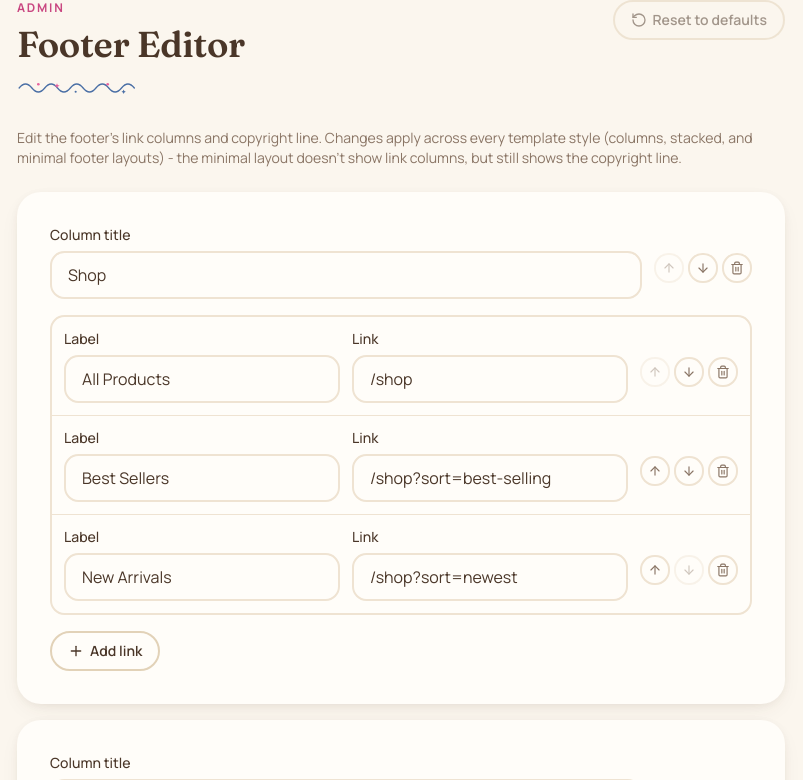
Test case: FooterEditor › blocks saving with an empty column title
Clear the 1st field labelled "Column title" at coordinates (346, 275), box x1=50 y1=251 x2=642 y2=299
(page scrolled)
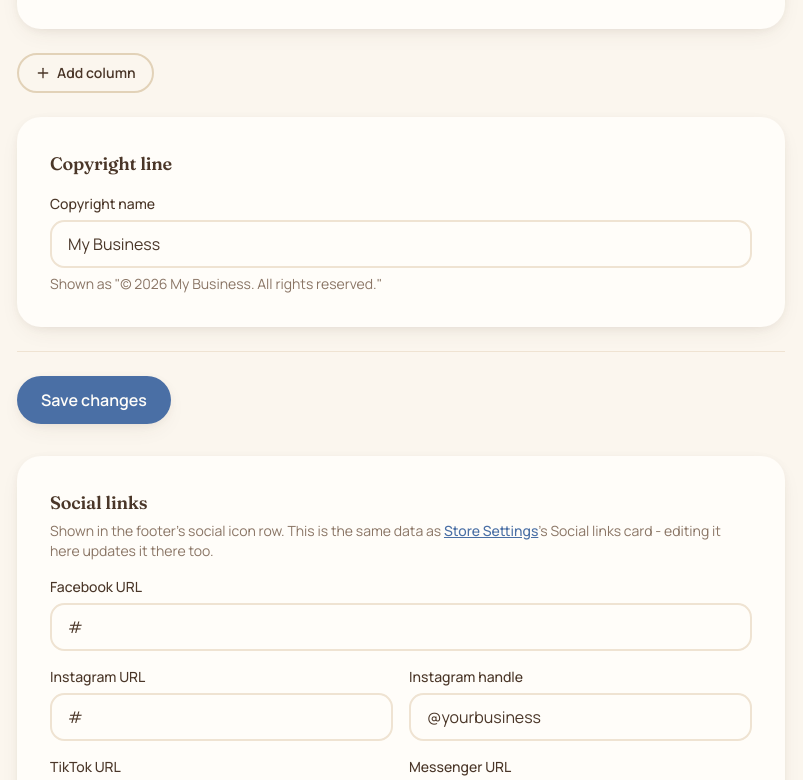
Click the button "Save changes" at coordinates (94, 400), box x1=17 y1=376 x2=171 y2=424
(page scrolled)
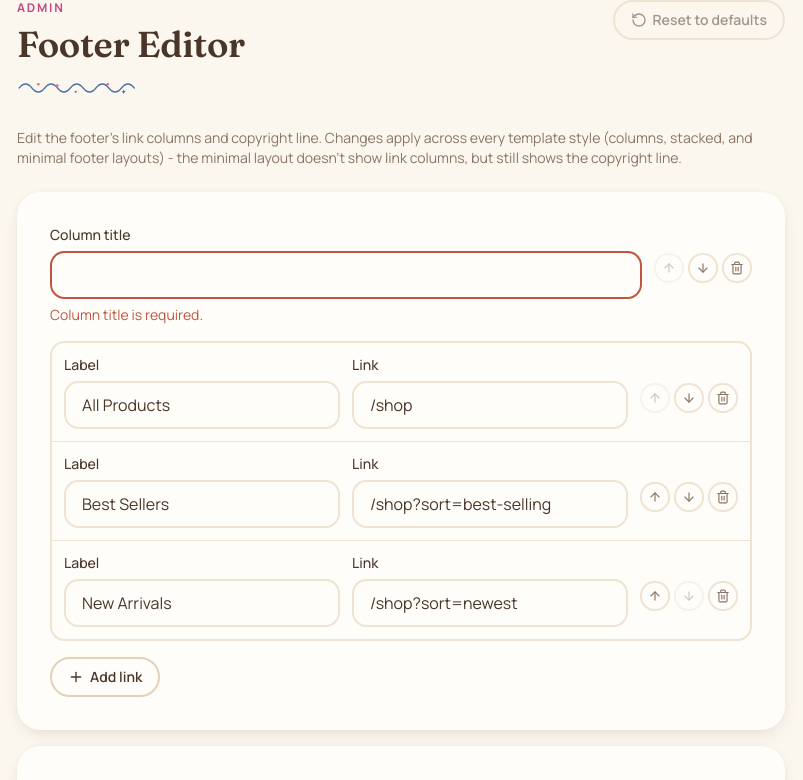
Now the text "Column title is required." is shown, box x1=50 y1=305 x2=203 y2=324
